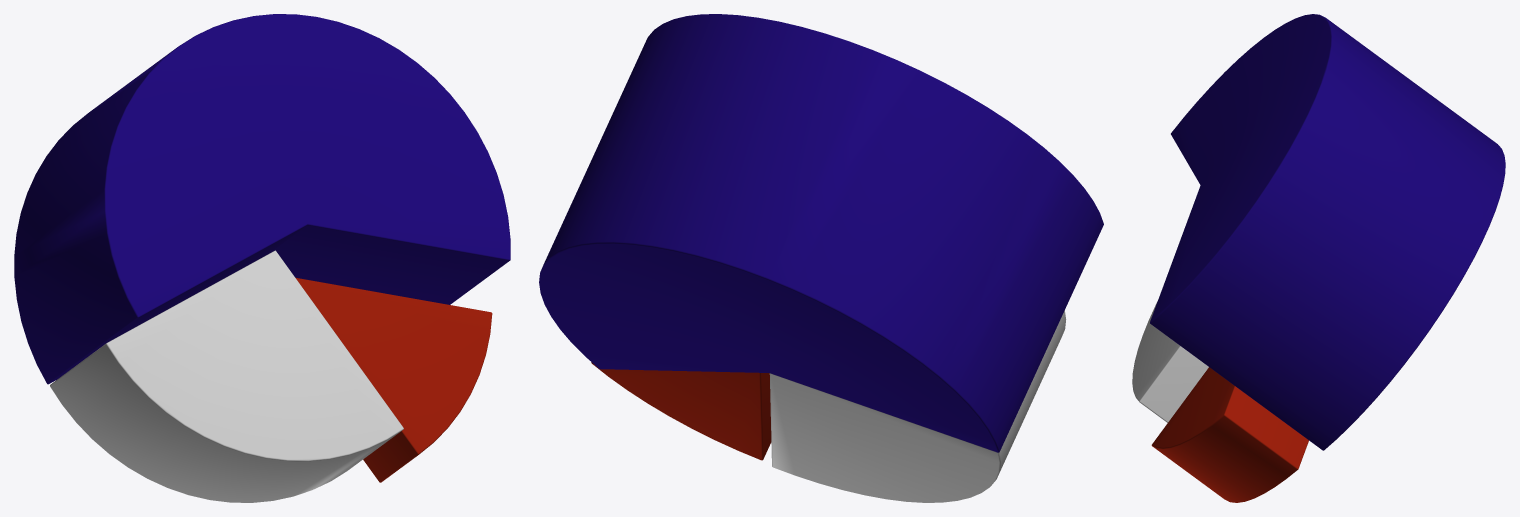
The model's file is chart.glb.
3 renders of one model, left to right at view 1: azimuth 30°, elevation 25°; view 2: azimuth 150°, elevation 25°; view 3: azimuth 270°, elevation 25°, orthographic. The views are drawn at different scales.
Visible parts, largest first — view 1: Cylinder.001; view 2: Cylinder.001; view 3: Cylinder.001.
Part boxes in pixels (x1,y1,x2,y2): Cylinder.001: (14, 14, 510, 502); Cylinder.001: (539, 14, 1103, 502); Cylinder.001: (1132, 14, 1505, 502).
Size of the model in its own units: 1.82 by 1.99 by 1.59.
